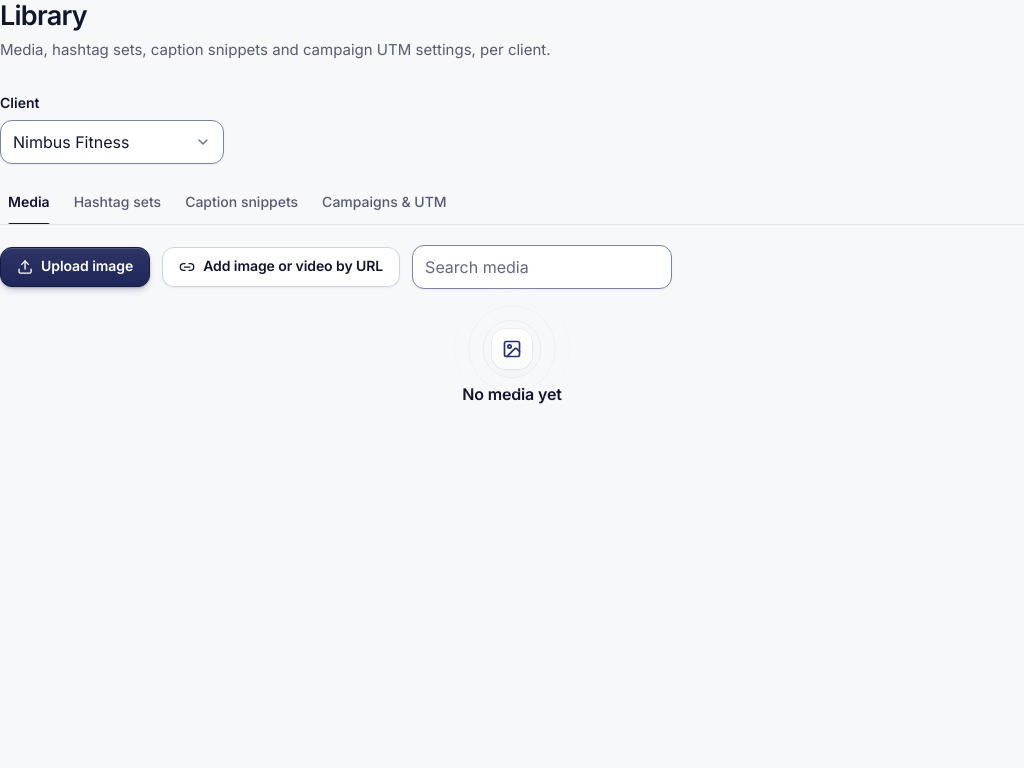
social journey regressions › the media upload dialog accepts images up to the 10 MB it promises (and the server allows)
Later steps or results of the test are not shown.
Click the button "Upload image" at (75, 267), box [0,247,150,287]
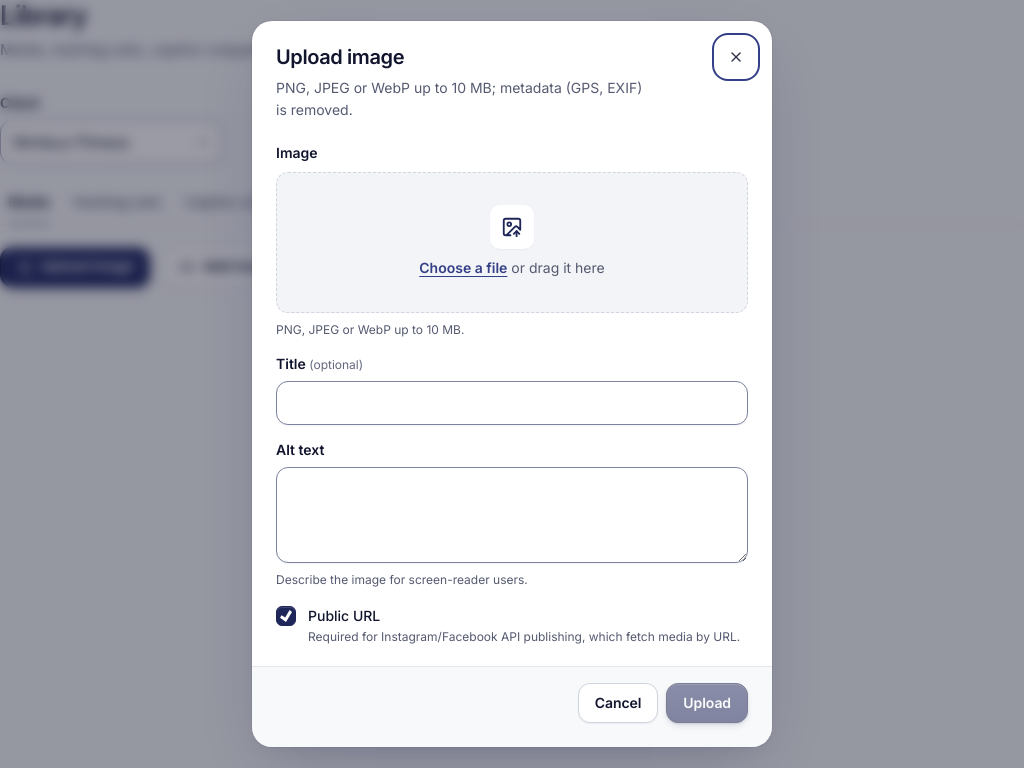
Now the text "PNG, JPEG or WebP up to 10 MB; metadata (GPS, EXIF) is removed." is shown, box [276,77,704,122]
